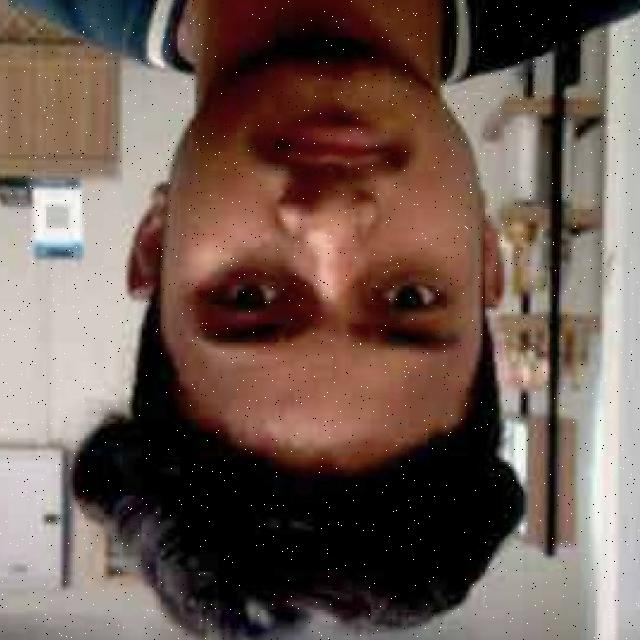puffy_eyes: (220, 261, 326, 307), (360, 258, 434, 293)
